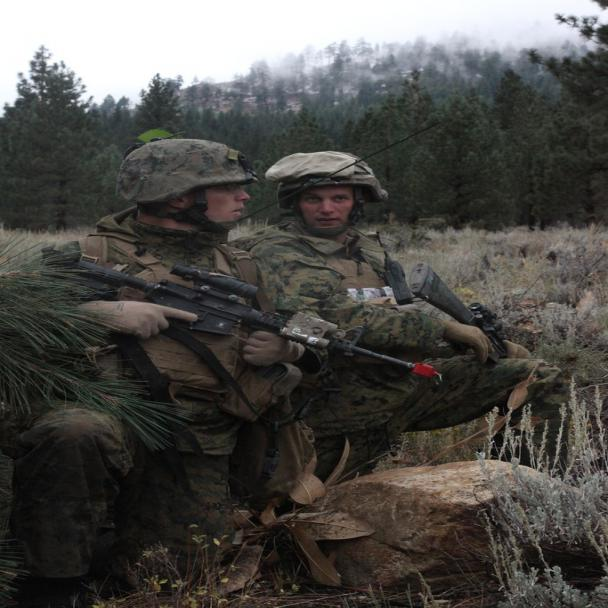Gun: (52, 245, 455, 403)
Hand: (67, 274, 212, 350)
